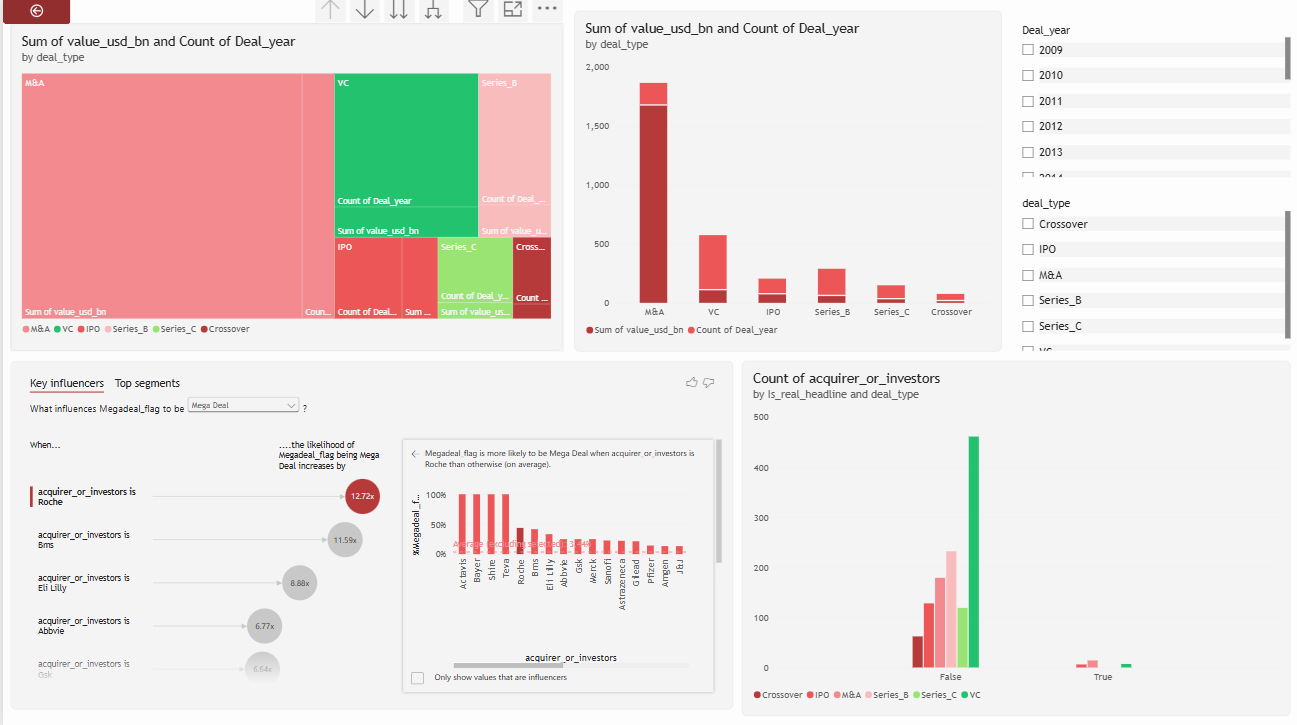

What the dashboard file says about the page in this screenshot:
{"tool":"powerbi","page":{"name":"Investor_details","canvas":[1920,1080],"ordinal":2},"visuals":[{"type":"treemap","fields":{"Group":["Biotech.deal_type","Biotech.deal_id"],"Values":["Sum(Biotech.value_usd_bn)","CountNonNull(Biotech.Deal_year)"]},"box":[10.9,39.8,818,485],"z":0},{"type":"keyDriversVisual","fields":{"Target":["Biotech.Megadeal_flag"],"ExplainBy":["Biotech.acquirer_or_investors"]},"box":[10.9,539.3,1070.3,516.6],"z":1000},{"type":"clusteredColumnChart","fields":{"Category":["Biotech.Is_real_headline"],"Series":["Biotech.deal_type"],"Y":["CountNonNull(Biotech.acquirer_or_investors)"]},"box":[1094.8,539.3,812.5,526.6],"z":2000},{"type":"actionButton","box":[0,0,100,40],"z":3000},{"type":"lineStackedColumnComboChart","fields":{"Category":["Biotech.deal_type"],"Y":["Sum(Biotech.value_usd_bn)","CountNonNull(Biotech.Deal_year)"]},"box":[846.9,19.9,633.4,504.9],"z":4000},{"type":"slicer","fields":{"Values":["Biotech.Deal_year"]},"box":[1502,39.8,405.4,228],"z":5000},{"type":"slicer","fields":{"Values":["Biotech.deal_type"]},"box":[1502,296.8,405.4,228],"z":6000}]}

Visuals, with their boxes on the page's 1920x1080 design canvas (x1, y1, x2, y2). These are canvas units, not pixel positions in the 1297x725 screenshot, which may show the page scaled, cropped or inside an application window:
treemap - Biotech.deal_type x Biotech.deal_id: box(11, 40, 829, 525)
keyDriversVisual - Biotech.Megadeal_flag x Biotech.acquirer_or_investors: box(11, 539, 1081, 1056)
clusteredColumnChart - Biotech.Is_real_headline x Biotech.deal_type: box(1095, 539, 1907, 1066)
actionButton: box(0, 0, 100, 40)
lineStackedColumnComboChart - Biotech.deal_type x Sum(Biotech.value_usd_bn): box(847, 20, 1480, 525)
slicer - Biotech.Deal_year: box(1502, 40, 1907, 268)
slicer - Biotech.deal_type: box(1502, 297, 1907, 525)
